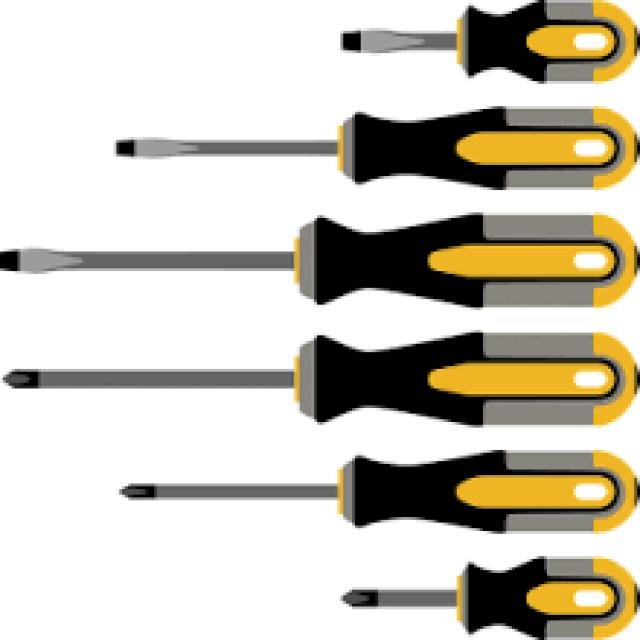screw driver: (0, 188, 640, 328), (6, 316, 640, 436), (62, 93, 640, 200), (96, 442, 640, 554), (272, 3, 640, 99), (300, 538, 640, 640)
